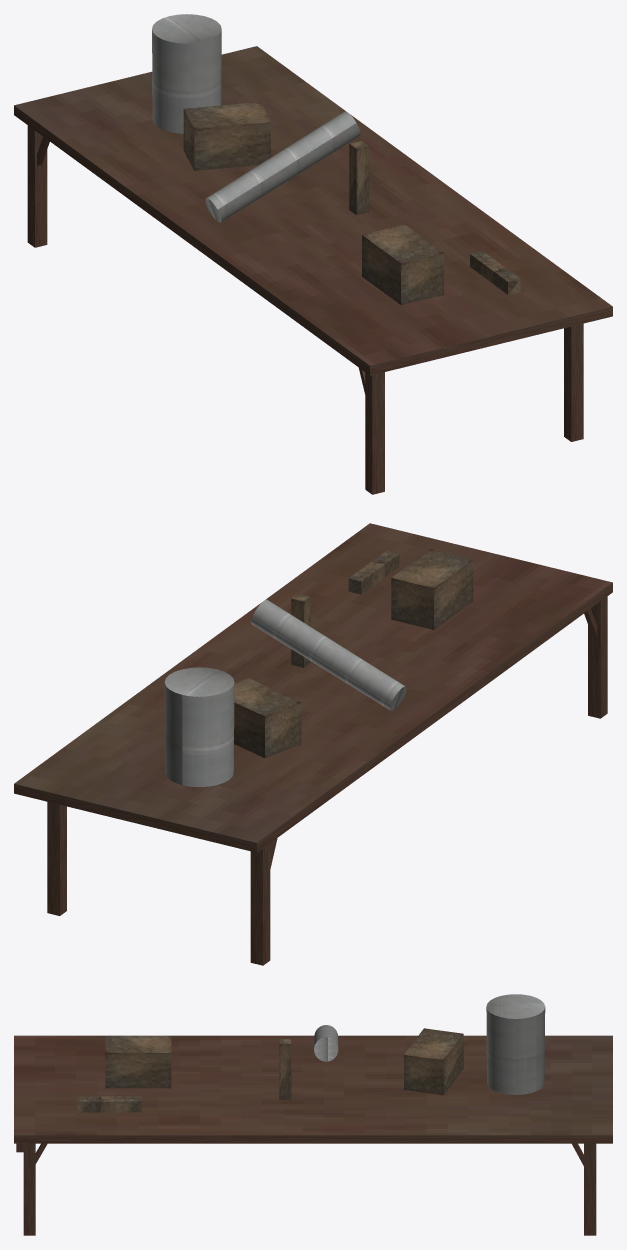
Rendered from stoliksklep.glb.
3 views of the same model, one above another, from view 1: azimuth 30°, elevation 25°; view 2: azimuth 150°, elevation 25°; view 3: azimuth 270°, elevation 25° (orthographic). The views are drawn at different scales.
Visible parts, largest first — view 1: Box001, Cone001, Box013, Box012, Cone002, Box015, Box016; view 2: Box001, Cone001, Box012, Cone002, Box013, Box004, Box016, Box015; view 3: Box001, Cone001, Box012, Box013, Box004, Box016, Cone002, Box015.
Boxes of the visible parts, x1,y1,x2,y2 form: Box001: (14,46,612,494); Cone001: (152,14,221,133); Box013: (183,102,270,170); Box012: (362,224,443,305); Cone002: (205,111,360,222); Box015: (349,140,368,215); Box016: (470,251,520,294); Box001: (14,523,612,965); Cone001: (164,667,234,787); Box012: (391,549,473,629); Cone002: (251,599,406,710); Box013: (234,678,301,757); Box004: (47,802,66,915); Box016: (348,551,399,594); Box015: (291,593,310,667); Box001: (14,1035,612,1235); Cone001: (486,994,545,1094); Box012: (105,1035,171,1088); Box013: (404,1028,463,1095); Box004: (584,1143,596,1235); Box016: (77,1096,141,1112); Cone002: (314,1025,338,1061); Box015: (279,1039,291,1099).
Bounding box in the file's own units: 0.495 × 0.4312 × 1.26.
Materials: 3 (3 with a texture image).
